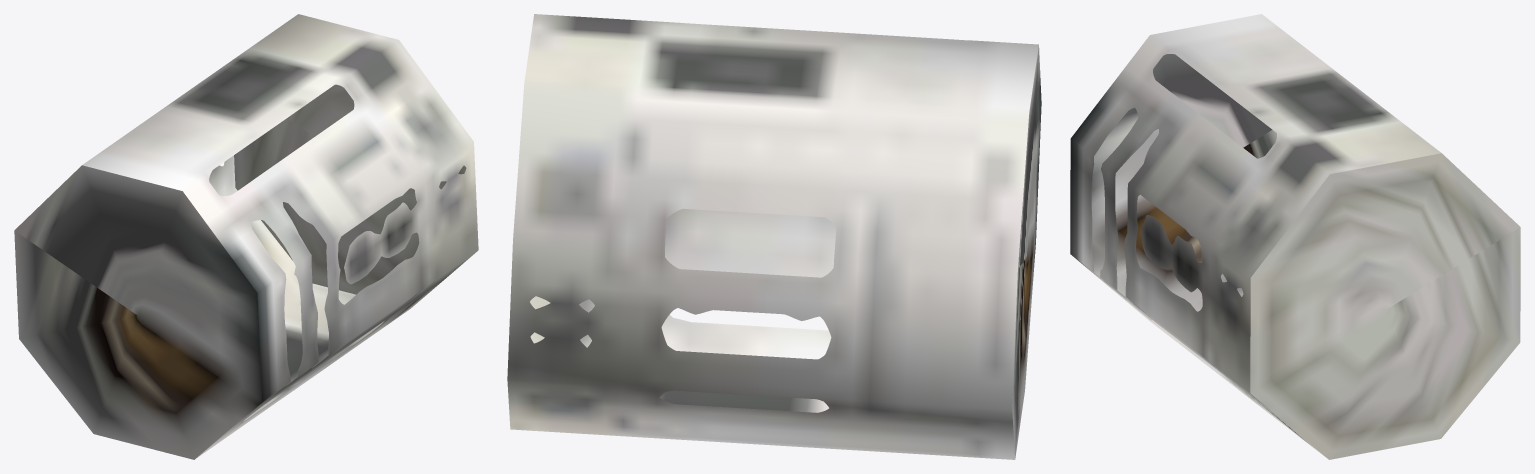
File: poi_r5_torso_l3.fbx
3 renders of one model, left to right at view 1: azimuth 30°, elevation 25°; view 2: azimuth 150°, elevation 25°; view 3: azimuth 270°, elevation 25°, orthographic. The views are drawn at different scales.
Parts seen in each view (by area): view 1: mesh_node; view 2: mesh_node; view 3: mesh_node.
Part boxes in pixels (box(x1,y1,x2,y2)): mesh_node: box(14, 14, 478, 459); mesh_node: box(507, 14, 1041, 459); mesh_node: box(1070, 14, 1520, 459).
Size of the model in its own units: 0.6869 by 0.4479 by 0.617.
Materials: 1 (1 with a texture image).
